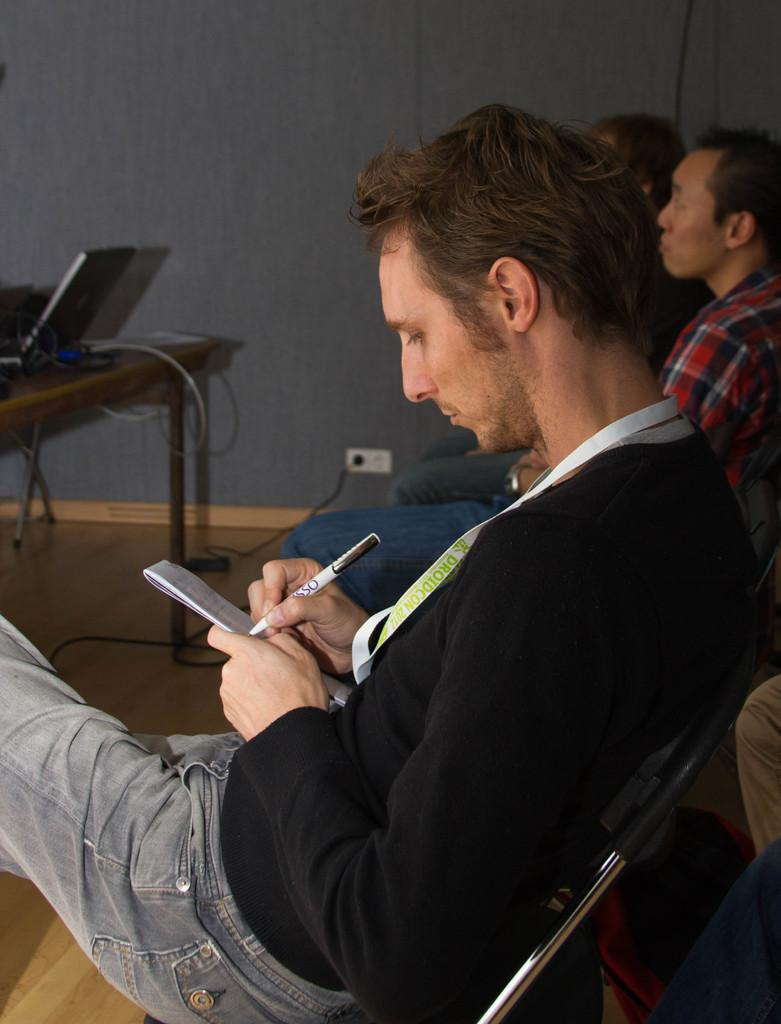pen: (249, 529, 386, 637)
